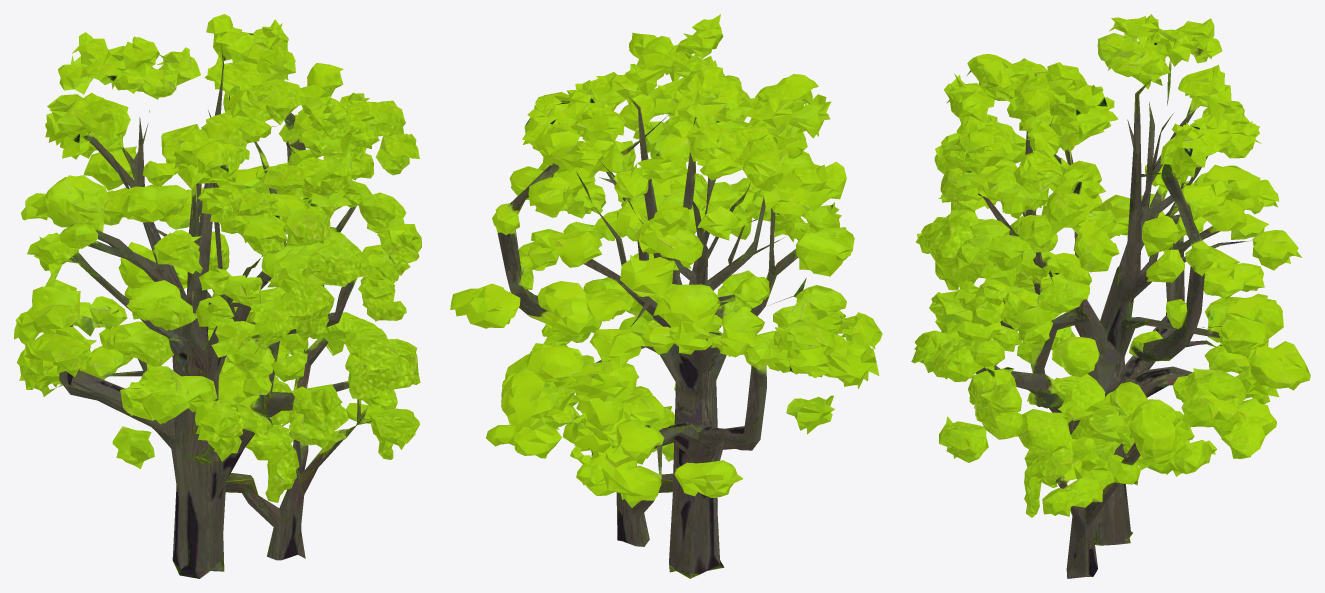
File: tree.glb
3 renders of one model, left to right at view 1: azimuth 30°, elevation 25°; view 2: azimuth 150°, elevation 25°; view 3: azimuth 270°, elevation 25°, orthographic. The views are drawn at different scales.
Bounding box in the file's own units: 1.43 × 1.87 × 1.34.
1 material, 1 textured.
